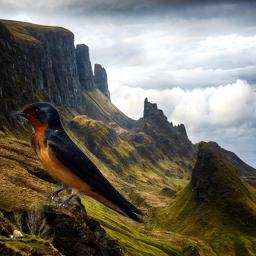Swallow: (11, 102, 146, 226)
